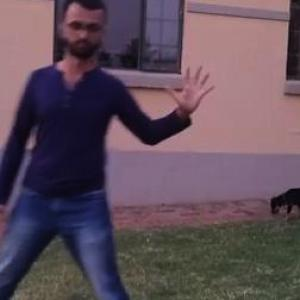follow_hand: (162, 57, 218, 116)
